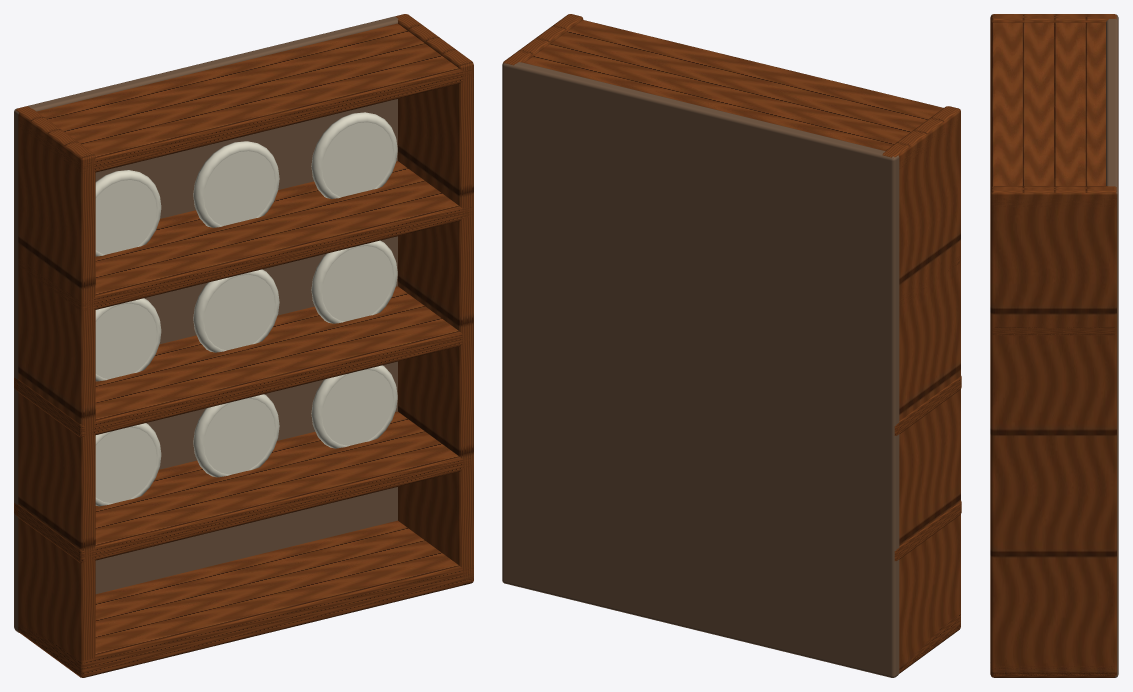
Rendered from adventurers-tavern-and-guild-hall-dresser-with-plates-d268ff5c__24699.glb.
3 renders of one model, left to right at view 1: azimuth 30°, elevation 25°; view 2: azimuth 150°, elevation 25°; view 3: azimuth 270°, elevation 25°, orthographic. The views are drawn at different scales.
Parts seen in each view (by area): view 1: dresser-with-plates; view 2: dresser-with-plates; view 3: dresser-with-plates.
Part boxes in pixels (box(x1,y1,x2,y2)): dresser-with-plates: box(14, 14, 473, 677); dresser-with-plates: box(502, 14, 961, 677); dresser-with-plates: box(990, 14, 1118, 677).
Bounding box in the file's own units: 1.5 × 1.9 × 0.4525.
Materials: 3 (1 with a texture image).
